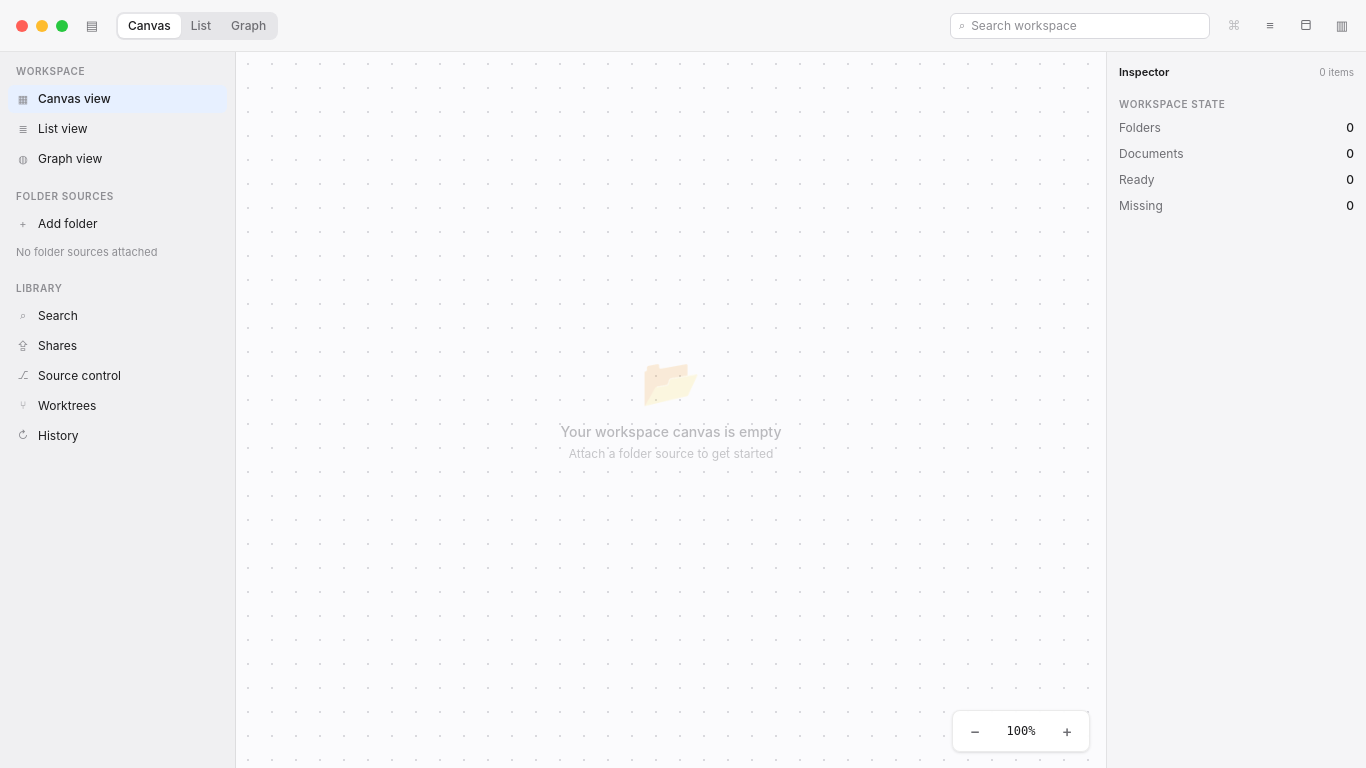
App shell reachability › UI-03: the History sidebar row opens the composed History surface on its Git tab
Click the button with test id "sidebar-history" at (118, 436), box [8, 422, 227, 450]
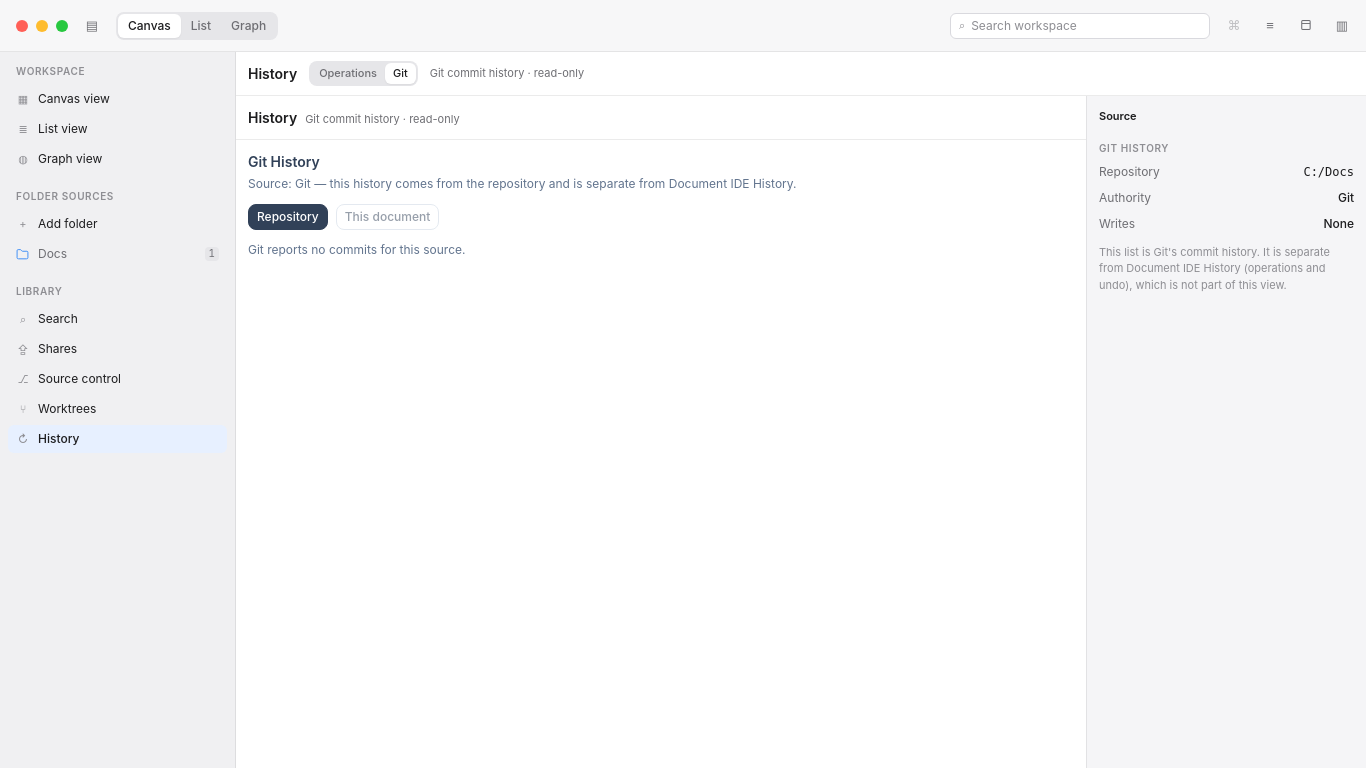
Result: the element with test id "history-screen" is shown
Result: the element with test id "git-history-screen" is shown
Result: the element with test id "git-history-panel" is shown at [248, 153, 796, 257]
